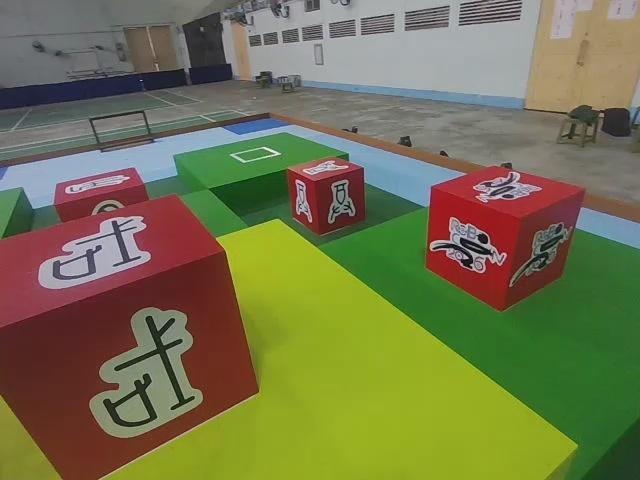R1: (420, 168, 584, 308)
R2 Real: (0, 192, 258, 479), (290, 161, 371, 233)
